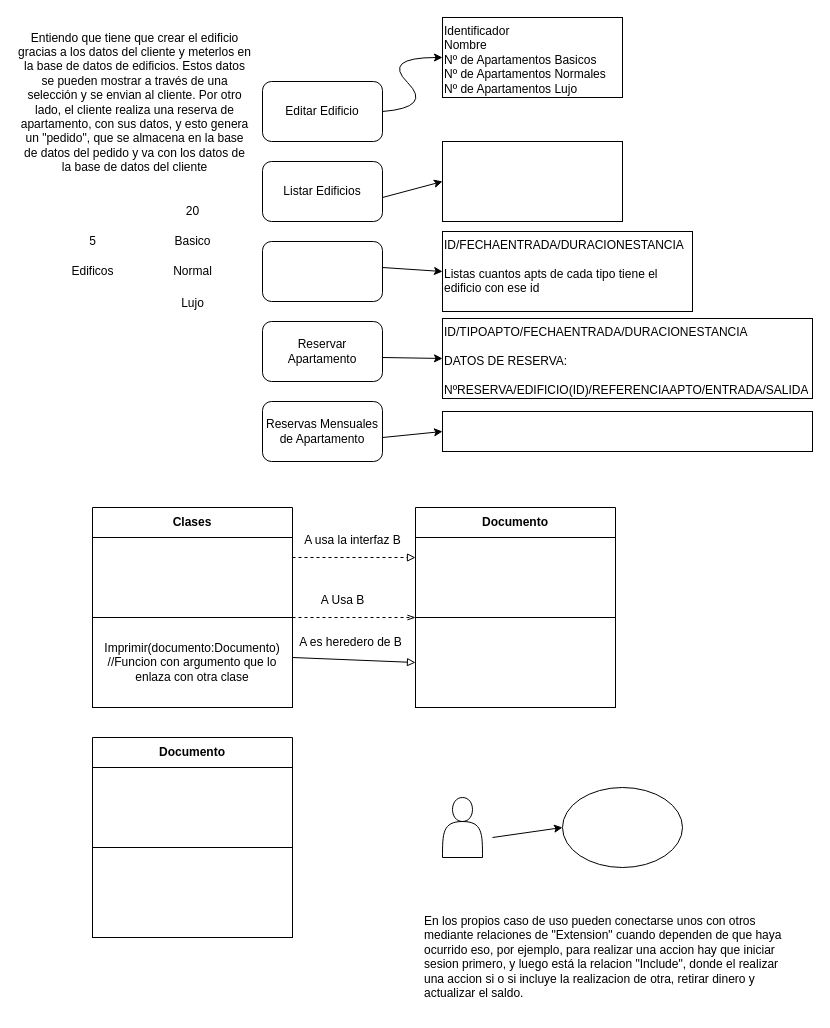
This 830x1028 diagram has some shape labels left out. The shapes that lost their labels are listed below. From the top down, each one's centre as x and y in pixels, then its label:
At pixel 532 181: "ID NOMBRE APTOS BASICOS APTOS NORMALES APTOS LUJO".
At pixel 322 271: "Apartamentos Disponibles".
At pixel 627 431: "Calendario con las reservas mensuales de un apartamento específico".
At pixel 515 577: "-Texto: String".
At pixel 515 662: "+getTexto():String".
At pixel 622 827: "Caso de Uso".
